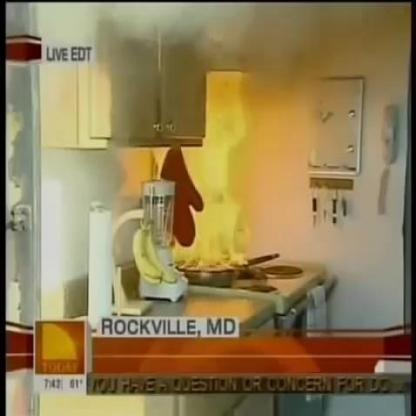fire: (177, 98, 250, 270)
